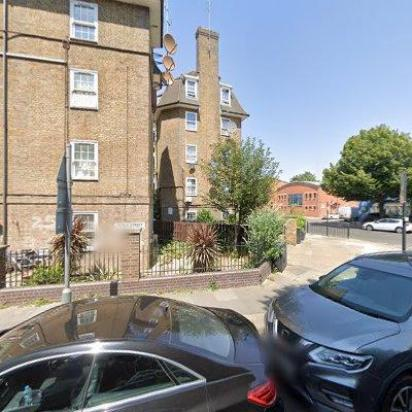stationary-car-offstreet: (322, 209, 340, 221)
stationary-car-onstreet: (0, 291, 282, 411), (256, 250, 410, 410), (362, 215, 410, 232)
